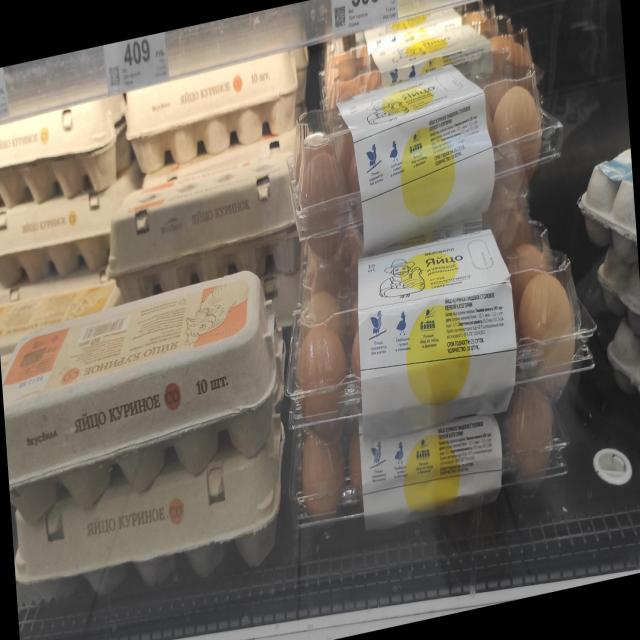organic waste: (0, 253, 296, 512)
